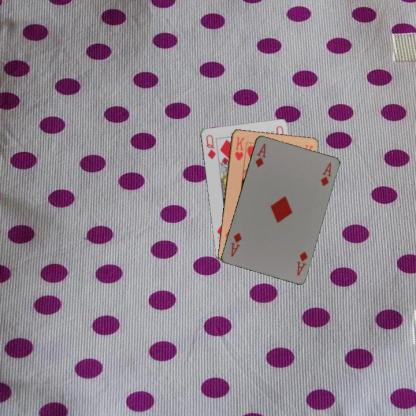Ad: (294, 248, 309, 277), (252, 140, 266, 168)
Kh: (232, 134, 246, 162)
Qd: (203, 132, 217, 160)
